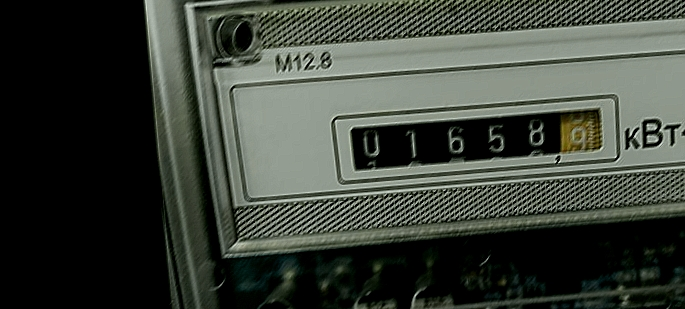0: (360, 126, 382, 157)
1: (403, 125, 423, 159)
5: (485, 120, 508, 152)
6: (445, 120, 467, 155)
8: (525, 113, 548, 147)
9: (566, 124, 590, 153)
screen: (322, 82, 628, 191)
